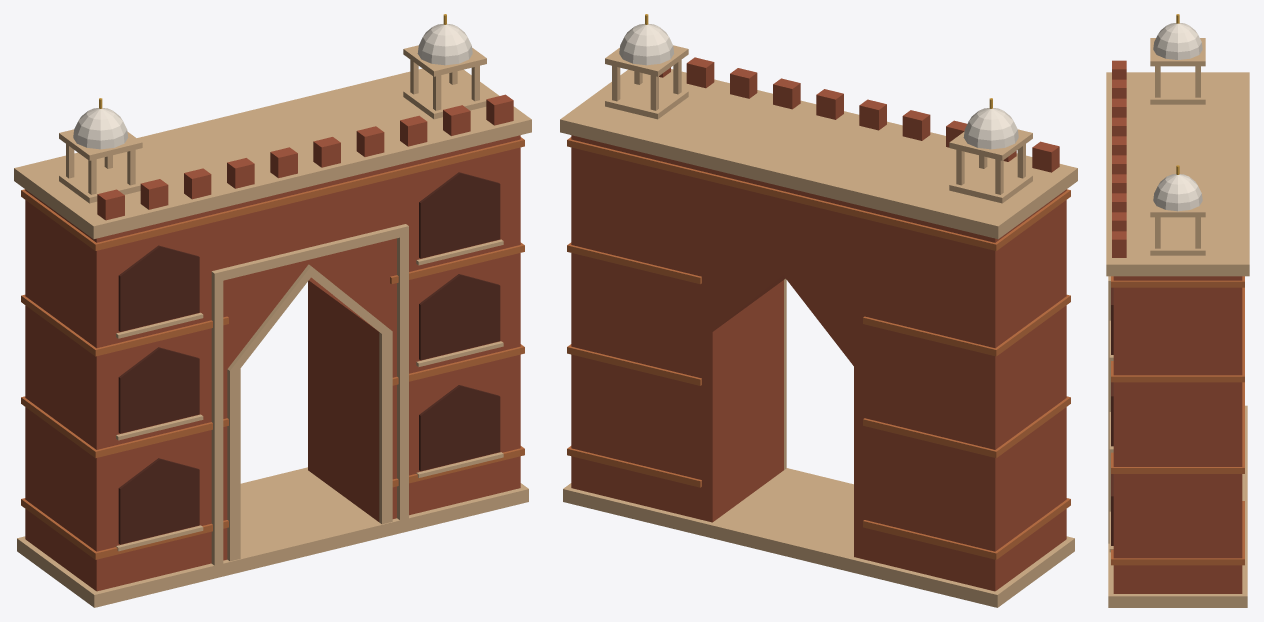
The model's file is delhi-gate.glb.
3 renders of one model, left to right at view 1: azimuth 30°, elevation 25°; view 2: azimuth 150°, elevation 25°; view 3: azimuth 270°, elevation 25°, orthographic. The views are drawn at different scales.
Visible parts, largest first — view 1: DelhiGate_Brick, DelhiGate_Stone, DelhiGate_Niche, DelhiGate_Brick2, DelhiGate_Dome; view 2: DelhiGate_Brick, DelhiGate_Stone, DelhiGate_Brick2, DelhiGate_Dome; view 3: DelhiGate_Brick, DelhiGate_Stone, DelhiGate_Brick2, DelhiGate_Dome, DelhiGate_Niche.
Part boxes in pixels (box(x1,y1,x2,y2)): DelhiGate_Brick: box(25, 94, 520, 591); DelhiGate_Stone: box(14, 45, 531, 607); DelhiGate_Niche: box(118, 172, 500, 544); DelhiGate_Brick2: box(21, 137, 524, 559); DelhiGate_Dome: box(73, 24, 472, 149); DelhiGate_Brick: box(571, 57, 1066, 591); DelhiGate_Stone: box(560, 45, 1077, 607); DelhiGate_Brick2: box(567, 137, 1070, 559); DelhiGate_Dome: box(619, 24, 1018, 149); DelhiGate_Brick: box(1112, 60, 1242, 593); DelhiGate_Stone: box(1106, 38, 1249, 607); DelhiGate_Brick2: box(1111, 276, 1244, 565); DelhiGate_Dome: box(1153, 23, 1202, 211); DelhiGate_Niche: box(1111, 287, 1113, 545).
Size of the model in its own units: 49.6 by 50.8 by 15.6.
